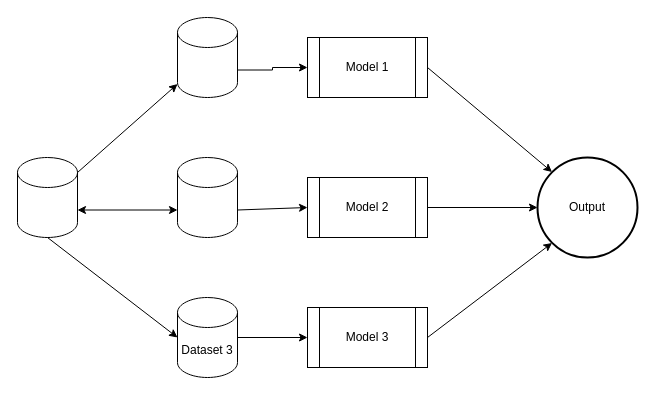
The diagram is 656 pixels wide and 395 high, and some of its shapes have lost their labels. Each missing label, with the centre of its shape:
"Dataset 1" belongs at (x=207, y=57).
"Dataset 2" belongs at (x=207, y=197).
